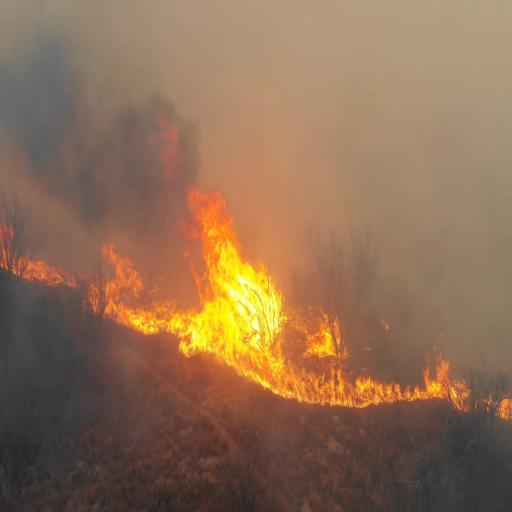fire: (190, 190, 280, 367), (98, 250, 190, 341), (269, 352, 394, 407), (426, 343, 467, 410)
smoke: (7, 21, 189, 240), (376, 31, 512, 224)
